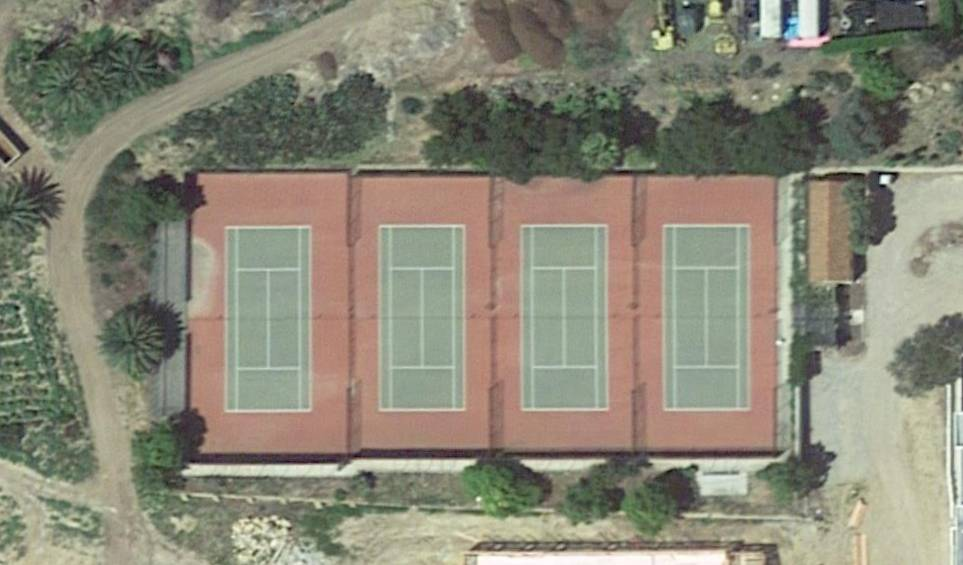tennis court: (377, 225, 468, 413), (520, 226, 611, 413), (663, 224, 752, 411), (224, 226, 313, 412)
